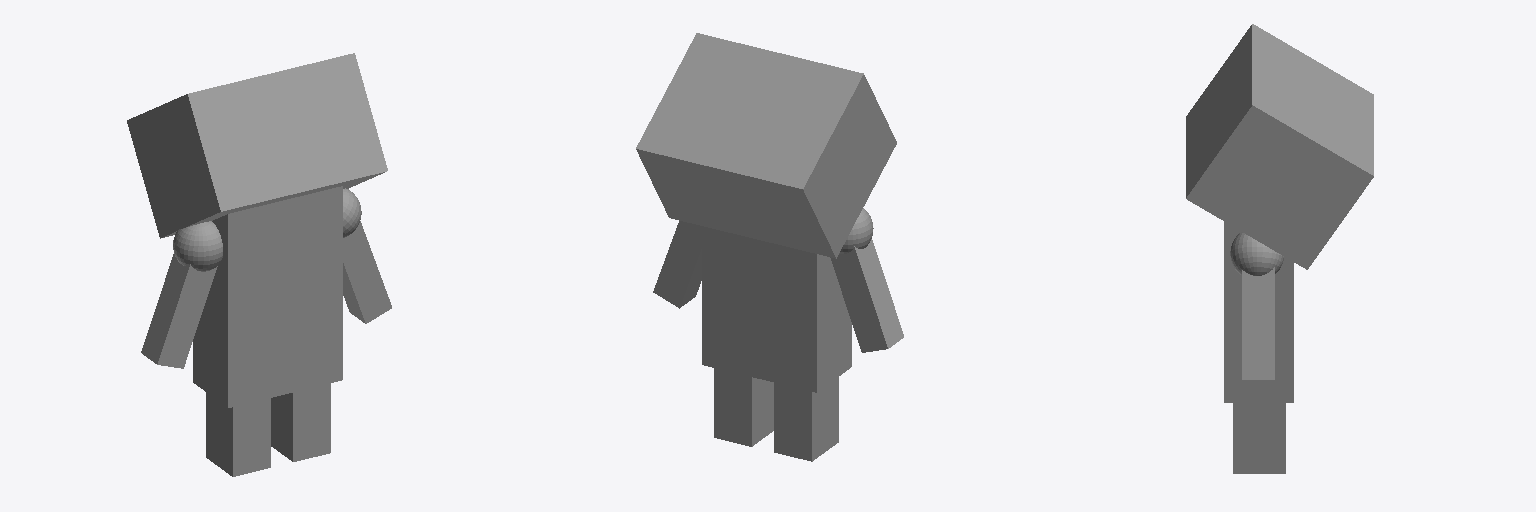
File: romeo-rigged.obj
3 renders of one model, left to right at view 1: azimuth 30°, elevation 25°; view 2: azimuth 150°, elevation 25°; view 3: azimuth 270°, elevation 25°, orthographic.
Visible parts, largest first — view 1: Cube_Cube.001; view 2: Cube_Cube.001; view 3: Cube_Cube.001.
Boxes of the visible parts, <box> form: Cube_Cube.001: <box>127,53,391,476</box>; Cube_Cube.001: <box>636,33,903,461</box>; Cube_Cube.001: <box>1186,24,1373,473</box>.
Bounding box in the file's own units: 6.16 × 9.62 × 4.28.